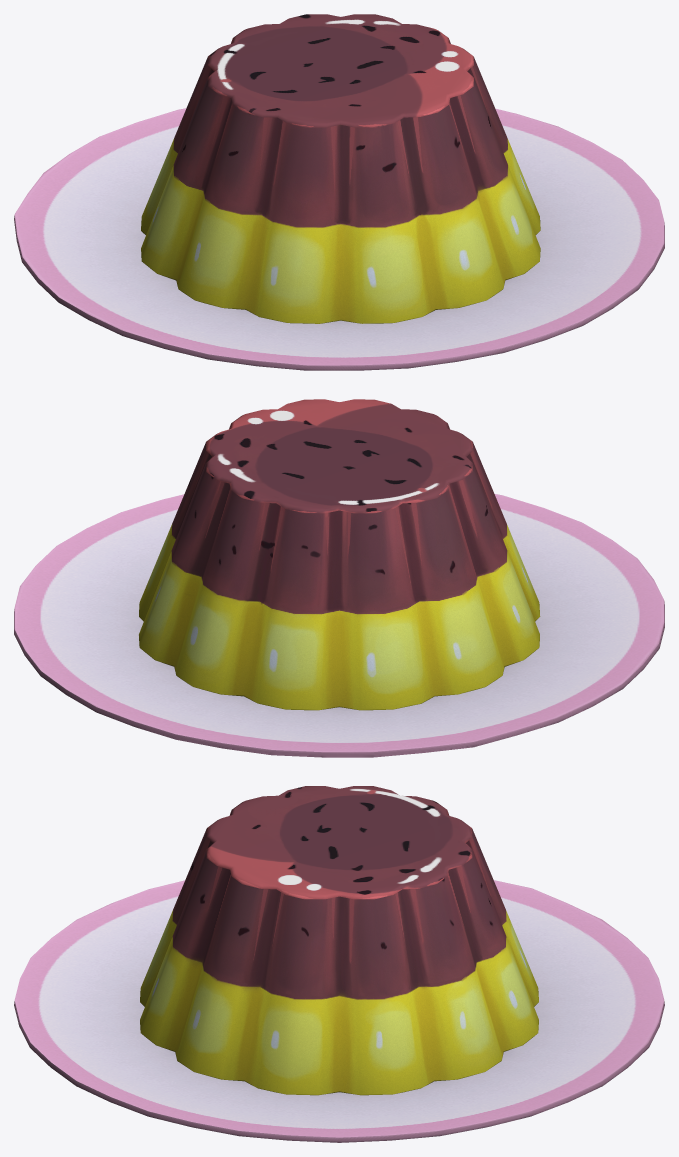
Rendered from Jelly.fbx.
3 views of the same model, one above another, from view 1: azimuth 30°, elevation 25°; view 2: azimuth 150°, elevation 25°; view 3: azimuth 270°, elevation 25° (orthographic).
Parts seen in each view (by area): view 1: 035; view 2: 035; view 3: 035.
Part boxes in pixels (left/top/right/bottom): 035: left=14, top=14, right=664, bottom=370; 035: left=14, top=399, right=664, bottom=757; 035: left=14, top=786, right=664, bottom=1142.
Size of the model in its own units: 68.04 by 22.28 by 68.04.
Materials: 1 (1 with a texture image).
